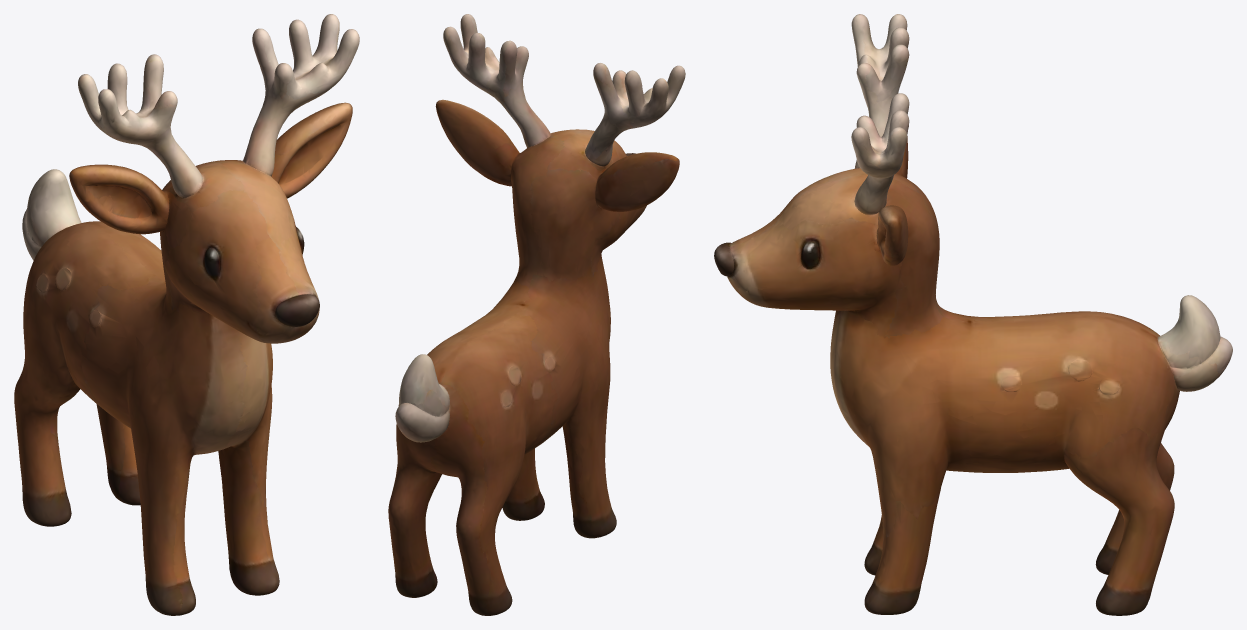
File: deer_pbr.glb
3 views of the same model, side by side, from view 1: azimuth 30°, elevation 25°; view 2: azimuth 150°, elevation 25°; view 3: azimuth 270°, elevation 25° (orthographic). The views are drawn at different scales.
Parts seen in each view (by area): view 1: model.005; view 2: model.005; view 3: model.005.
Boxes of the visible parts, bbox=[...] form: model.005: bbox=[14, 14, 359, 615]; model.005: bbox=[388, 14, 685, 615]; model.005: bbox=[714, 14, 1232, 615].
Bounding box in the file's own units: 0.9506 × 1.78 × 1.6.
Materials: 1 (1 with a texture image).
